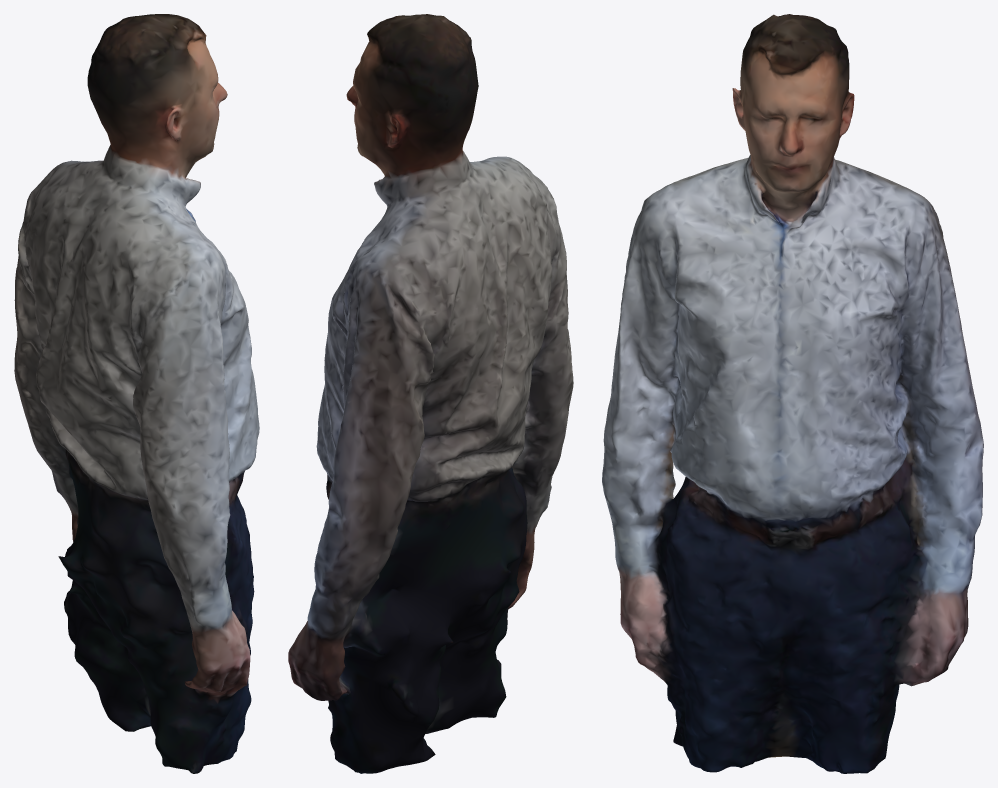
The model's file is ReducedRoman.fbx.
3 views of the same model, side by side, from view 1: azimuth 30°, elevation 25°; view 2: azimuth 150°, elevation 25°; view 3: azimuth 270°, elevation 25° (orthographic). The views are drawn at different scales.
Visible parts, largest first — view 1: Roman.001_LOD1; view 2: Roman.001_LOD1; view 3: Roman.001_LOD1.
Boxes of the visible parts, x1,y1,x2,y2 form: Roman.001_LOD1: (14,14,259,773); Roman.001_LOD1: (288,14,573,773); Roman.001_LOD1: (602,14,983,773).
Size of the model in its own units: 952 by 3518 by 1666.
